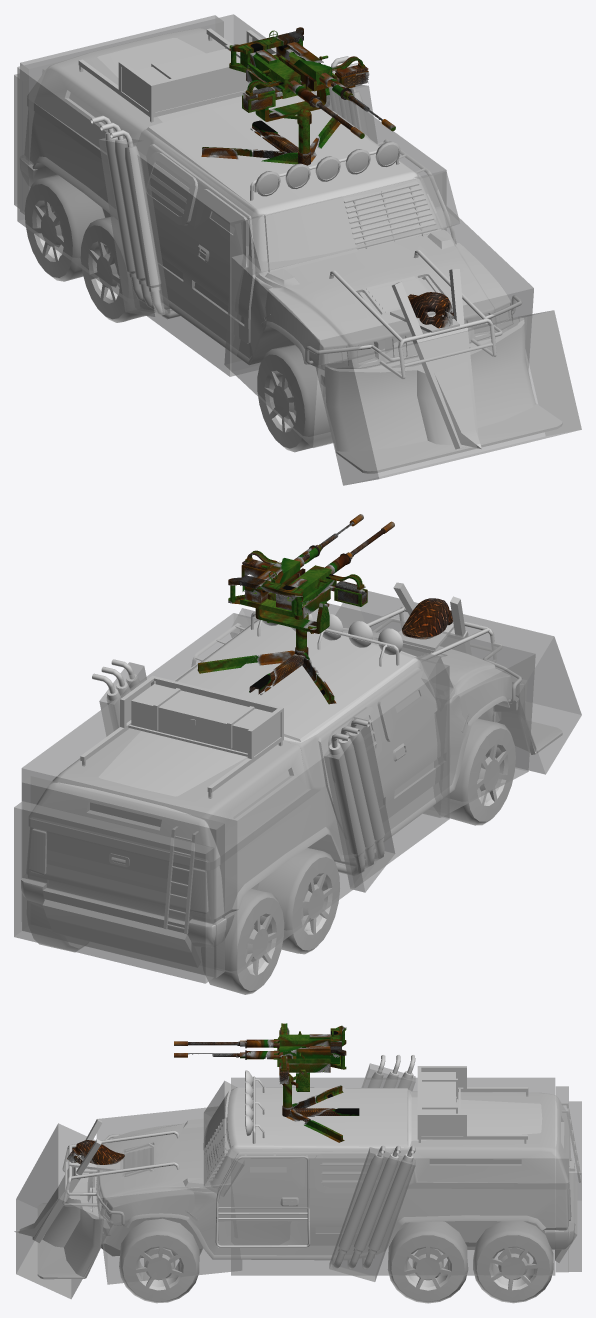
File: Enrico_HummerH2_Armored.fbx
3 views of the same model, one above another, from view 1: azimuth 30°, elevation 25°; view 2: azimuth 150°, elevation 25°; view 3: azimuth 270°, elevation 25° (orthographic). The views are drawn at different scales.
Parts seen in each view (by area): view 1: CarBody, pCube2, pCube12, pCube16, polySurface2537, pCube13, pCube15, Gun, Wheel_FR, Wheel_RR1, polySurface2437, polySurface2527 (+18 smaller); view 2: CarBody, pCube2, pCube11, pCube10, pCube12, pCube16, pCube15, Gun, Wheel_RR, Wheel_RR1, Wheel_FR, polySurface2504 (+16 smaller); view 3: CarBody, pCube2, pCube12, pCube16, pCube14, Wheel_FL, Wheel_RL, Wheel_RL1, polySurface2537, Gun, pCube13, polySurface2517 (+21 smaller).
Part boxes in pixels (box(x1,y1,x2,y2)): CarBody: box(19, 28, 513, 385); pCube2: box(17, 14, 446, 376); pCube12: box(224, 206, 533, 447); pCube16: box(315, 310, 581, 485); polySurface2537: box(325, 317, 562, 473); pCube13: box(235, 171, 459, 275); pCube15: box(98, 137, 169, 316); Gun: box(229, 27, 395, 138); Wheel_FR: box(257, 344, 332, 452); Wheel_RR1: box(24, 174, 105, 281); polySurface2437: box(264, 196, 357, 271); polySurface2527: box(412, 327, 481, 449); CarBody: box(21, 620, 518, 966); pCube2: box(21, 613, 449, 974); pCube11: box(14, 801, 213, 983); pCube10: box(22, 776, 224, 977); pCube12: box(311, 603, 535, 817); pCube16: box(336, 590, 581, 774); pCube15: box(324, 717, 395, 892); Gun: box(228, 514, 394, 619); Wheel_RR: box(257, 848, 339, 954); Wheel_RR1: box(206, 889, 284, 994); Wheel_FR: box(444, 718, 515, 825); polySurface2504: box(131, 684, 271, 751); CarBody: box(92, 1087, 577, 1262); pCube2: box(231, 1077, 555, 1275); pCube12: box(96, 1107, 241, 1284); pCube16: box(16, 1123, 113, 1299); pCube14: box(329, 1147, 415, 1281); Wheel_FL: box(119, 1218, 199, 1303); Wheel_RL: box(388, 1221, 468, 1303); Wheel_RL1: box(473, 1221, 553, 1303); polySurface2537: box(37, 1168, 103, 1279); Gun: box(174, 1023, 346, 1084); pCube13: box(204, 1080, 244, 1196); polySurface2517: box(225, 1154, 305, 1190).
Size of what is drawn, in the model's own units: 249 by 287 by 627.
